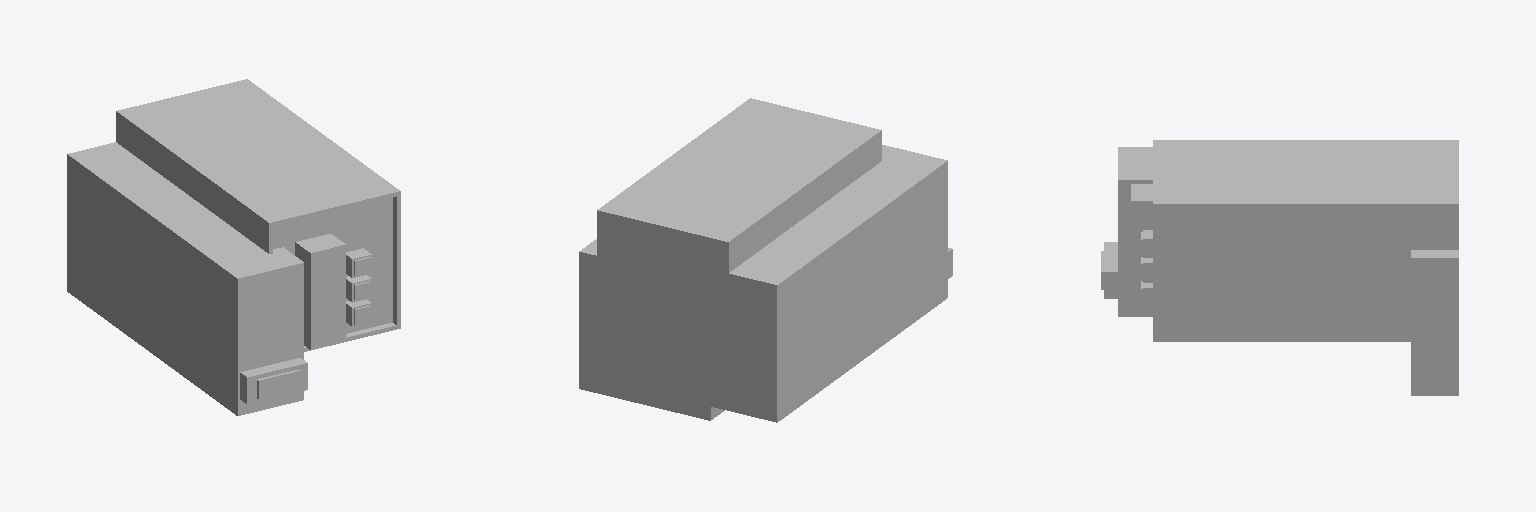
The model's file is PlayBuilding_8.obj.
The picture shows the model from 3 angles: view 1: azimuth 30°, elevation 25°; view 2: azimuth 150°, elevation 25°; view 3: azimuth 270°, elevation 25°; orthographic projection.
Visible parts, largest first — view 1: 立方体.014; view 2: 立方体.014; view 3: 立方体.014.
Part boxes in pixels (x1,y1,x2,y2): 立方体.014: (67,79,400,415); 立方体.014: (579,98,952,422); 立方体.014: (1101,140,1458,395).
Bounding box in the file's own units: 30.42 × 26.85 × 47.65.